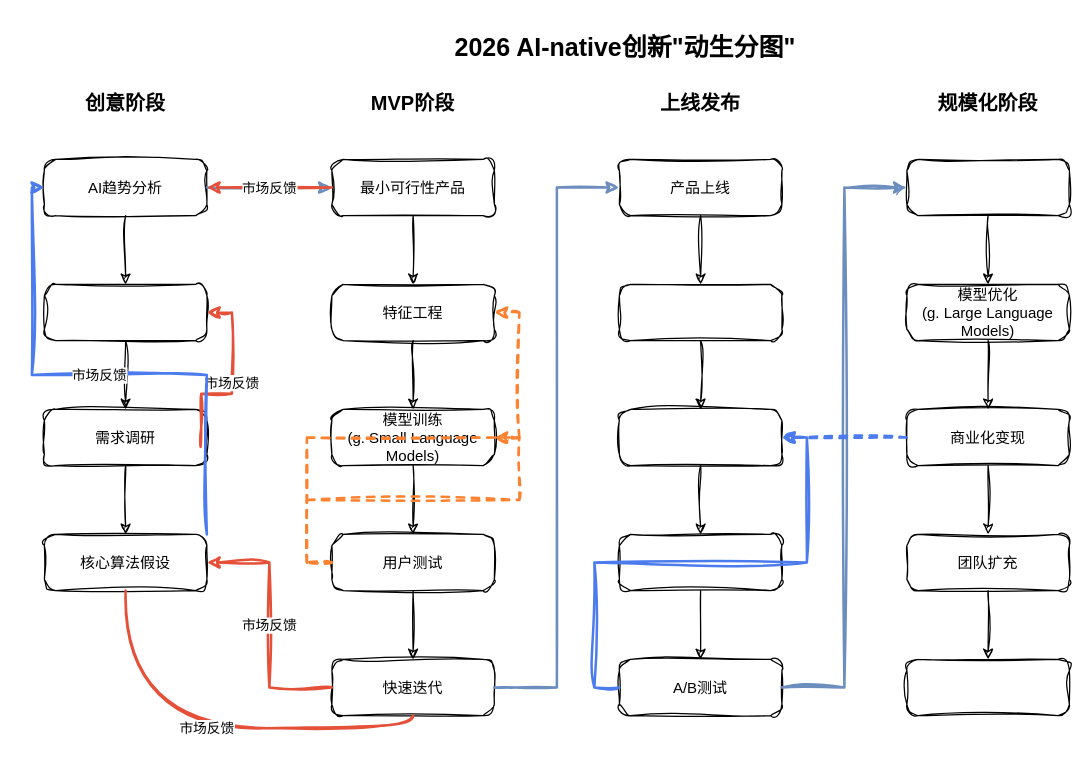
Image size: 1091x758. Some labels were removed from this diagram. Here are the shapes that lost their labels. From the top down, the centre of each, then its label:
point 987,187: 市场扩张
point 125,312: 痛点识别
point 700,312: 早期用户获取 (Seed Users)
point 700,437: 数据收集
point 700,562: 性能监控
point 987,687: 运营效率提升
